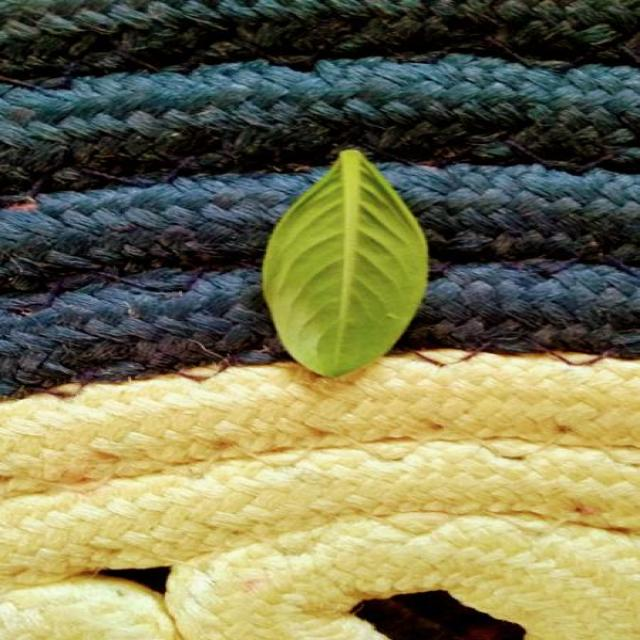catharanthus: (262, 150, 428, 376)
